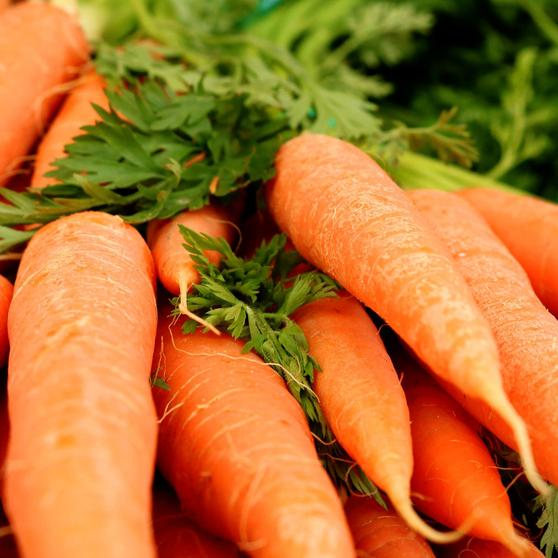carrot: (238, 115, 524, 448), (1, 208, 167, 558), (157, 320, 353, 558)
